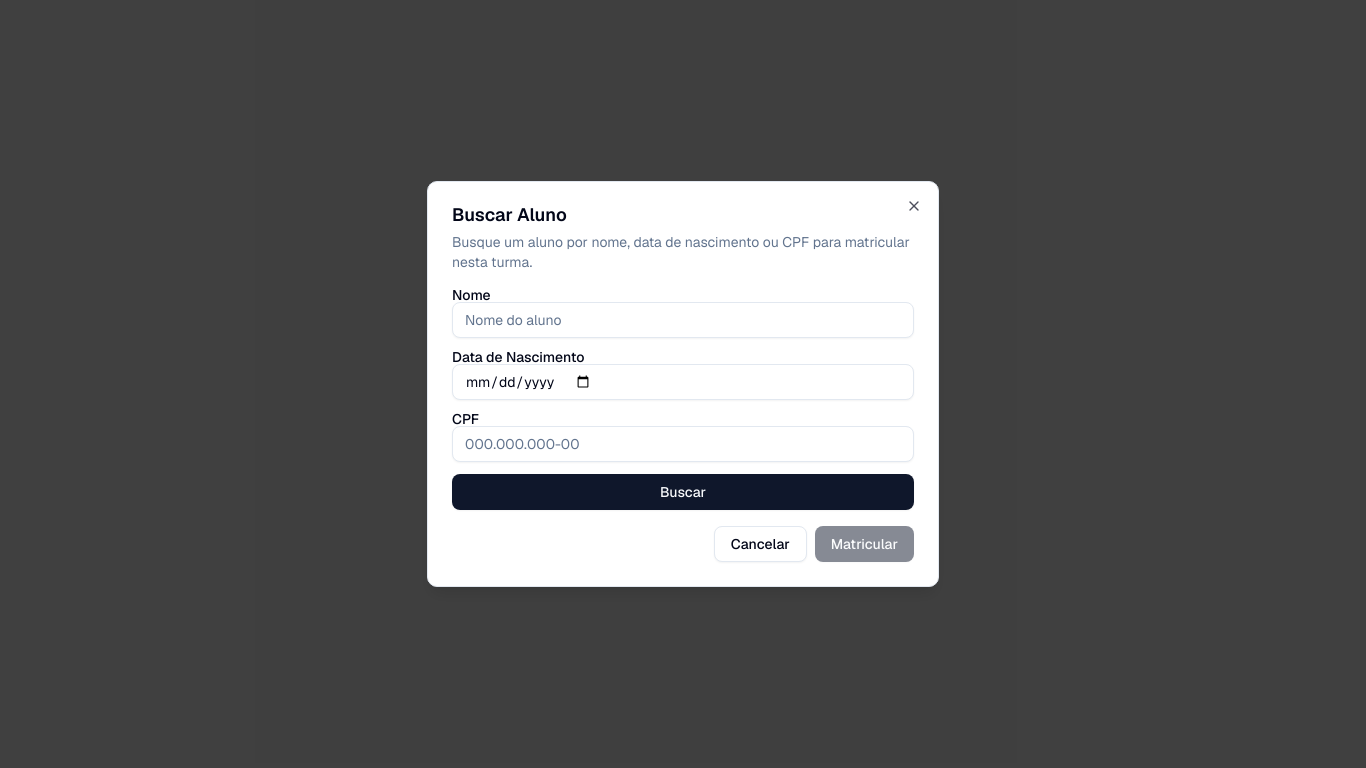
StudentSearchModal › should search for students with valid criteria
Type "João" into the field labelled "Nome" at (683, 320), box [452, 302, 914, 338]
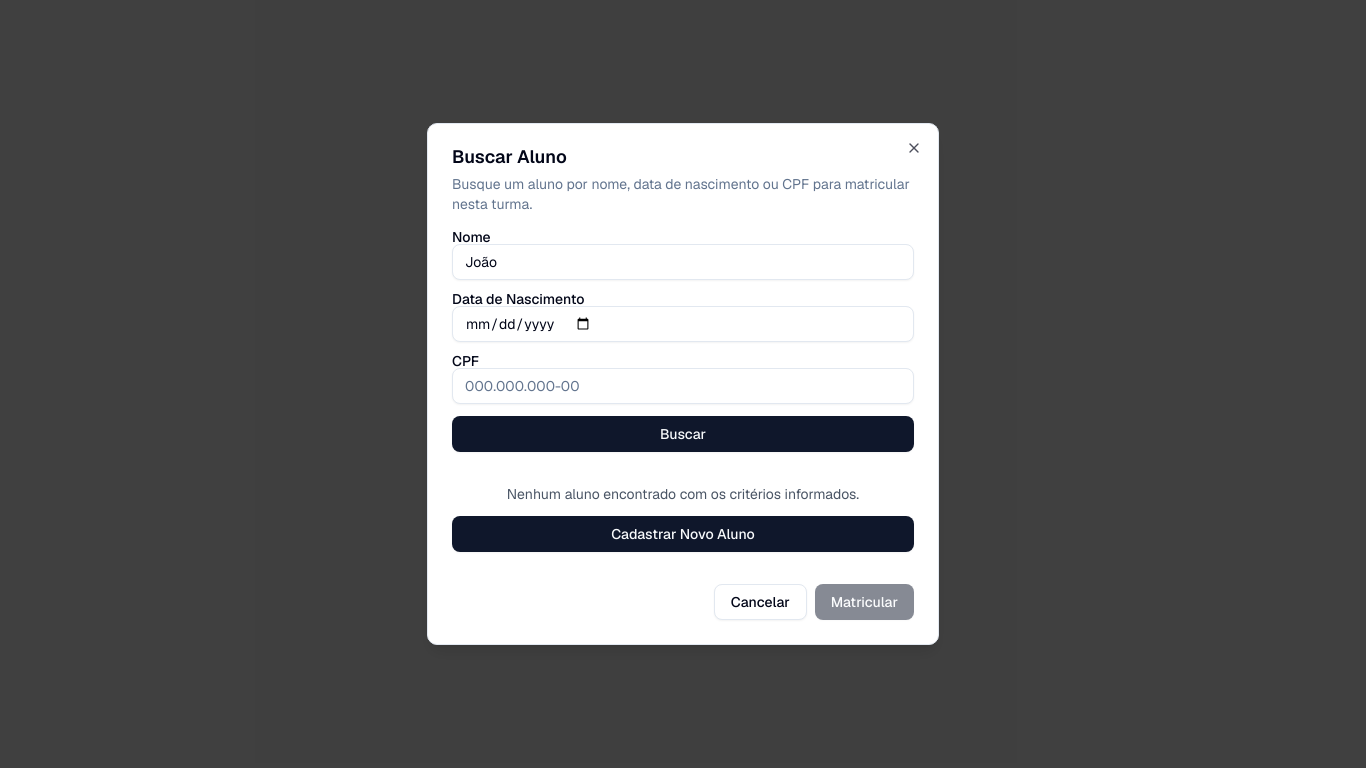
Click the button "Buscar" at (683, 434), box [452, 416, 914, 452]
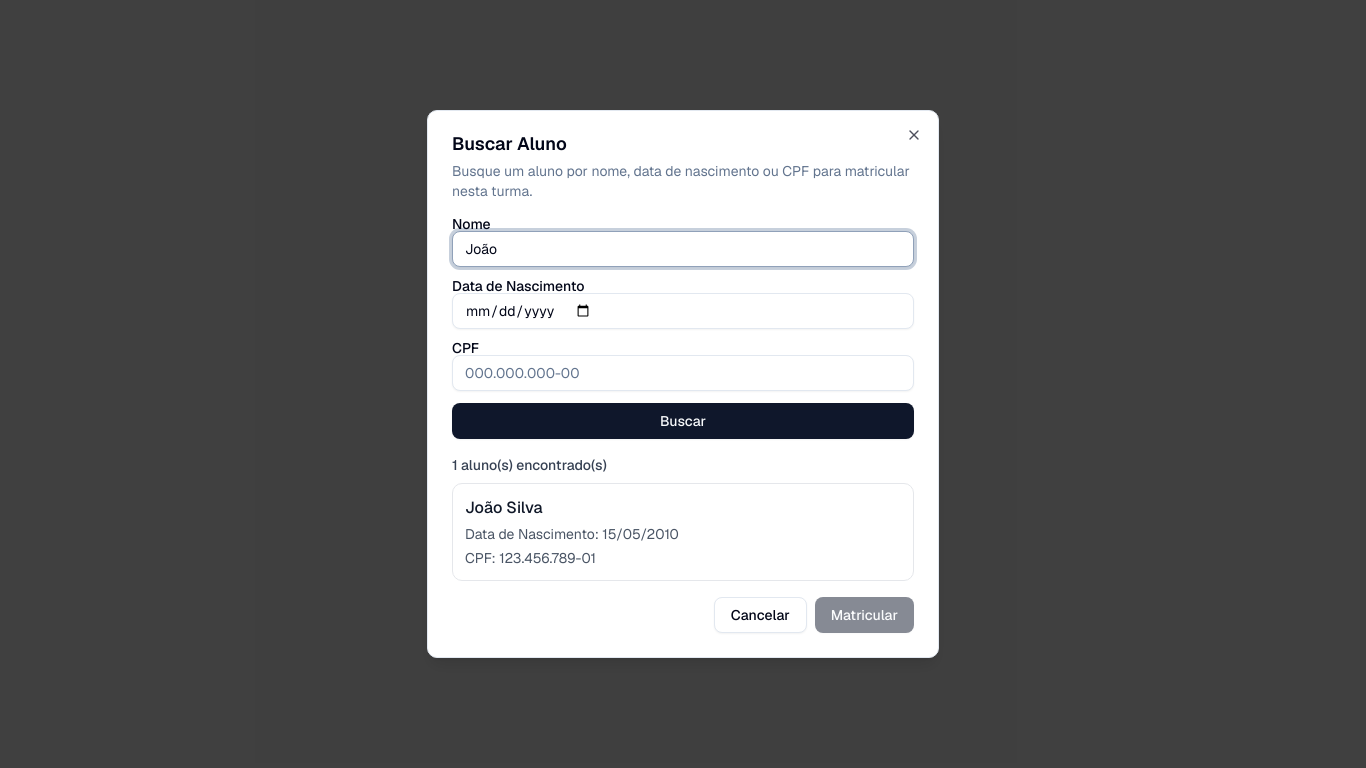
expect the text "João Silva" is shown: met, box [465, 497, 542, 518]
expect the text "Data de Nascimento: 15/05/2010" is shown: met, box [465, 525, 679, 543]
